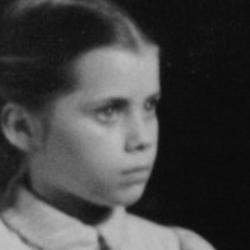face: (3, 2, 175, 222)
